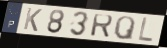3: (67, 11, 91, 37)
8: (46, 9, 66, 35)
K: (22, 7, 44, 34)
L: (137, 16, 155, 44)
Q: (113, 15, 137, 42)
R: (89, 13, 115, 39)
